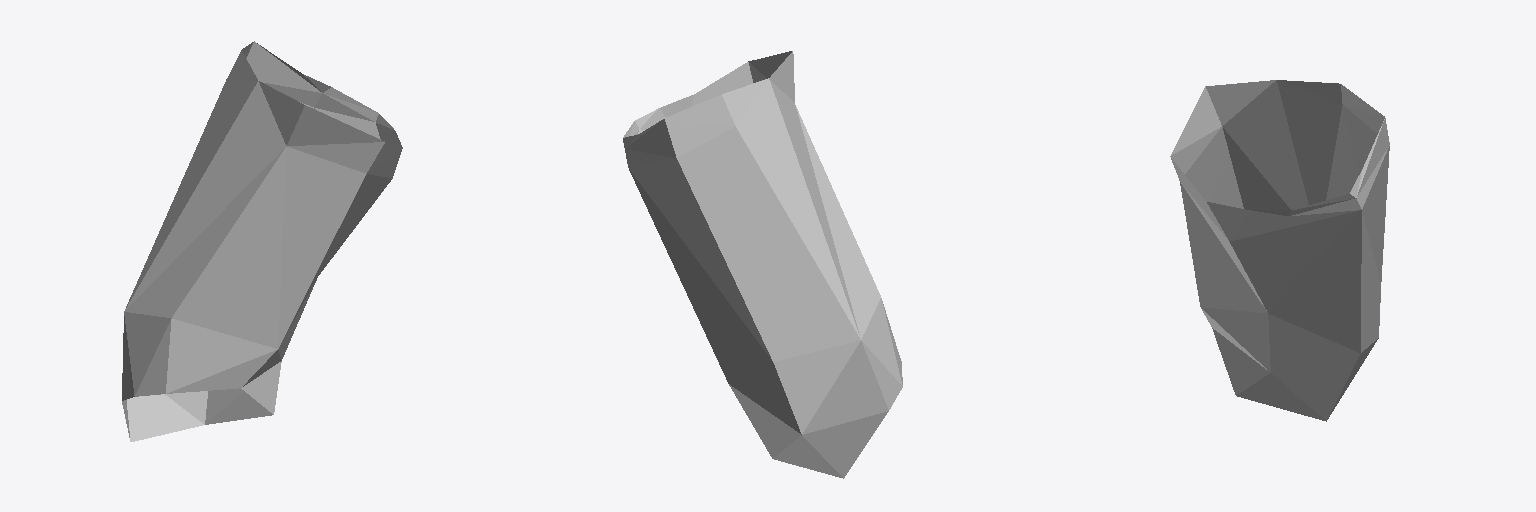
Rendered from pIzqEntre.obj.
The picture shows the model from 3 angles: view 1: azimuth 30°, elevation 25°; view 2: azimuth 150°, elevation 25°; view 3: azimuth 270°, elevation 25°; orthographic projection.
Visible parts, largest first — view 1: Entrenador.004_trainer_body; view 2: Entrenador.004_trainer_body; view 3: Entrenador.004_trainer_body.
Boxes of the visible parts, box(x1,y1,x2,y2) form: Entrenador.004_trainer_body: box(122, 41, 402, 441); Entrenador.004_trainer_body: box(623, 51, 902, 478); Entrenador.004_trainer_body: box(1170, 80, 1389, 421).
Size of the model in its own units: 8.27 by 11.1 by 6.14.